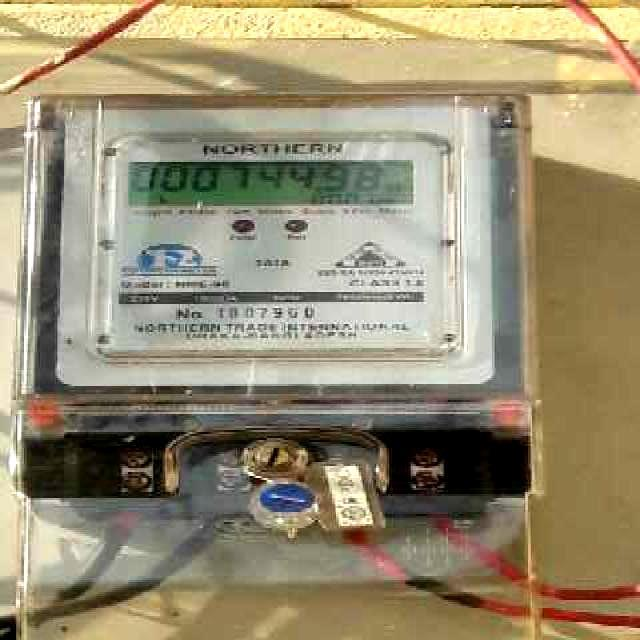LCD: (124, 158, 423, 214)
